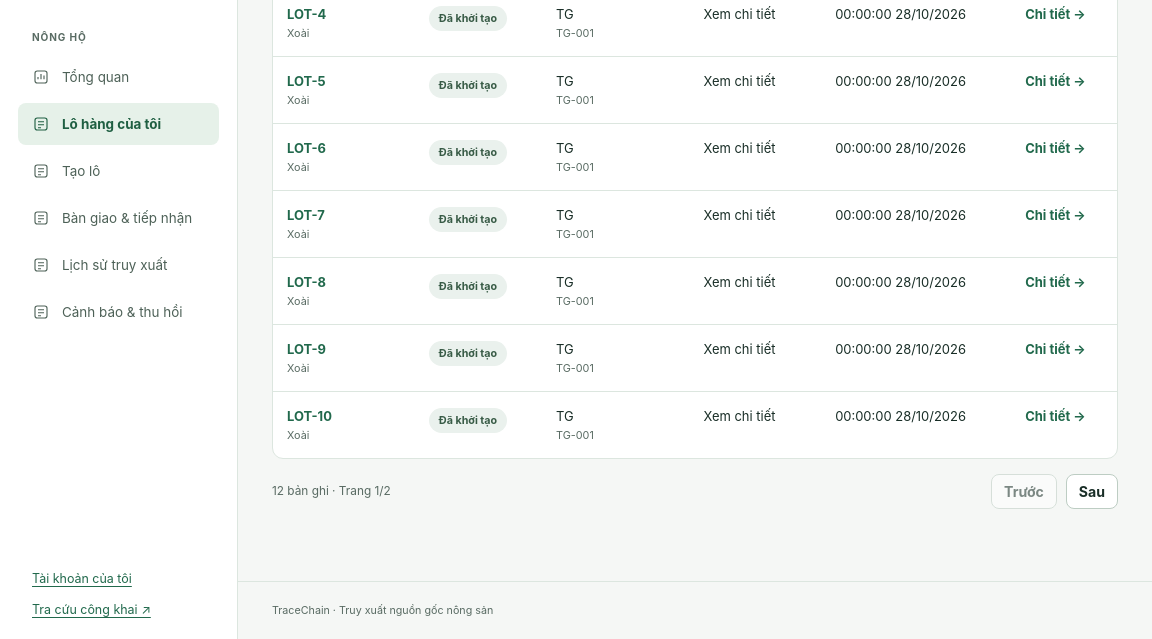
Test case: searches and paginates API lots, then filters by status
(page scrolled)
expect the link "LOT-12" is not shown: met
Click the button "Sau": (1092, 491) [1066, 474, 1118, 508]
(page scrolled)
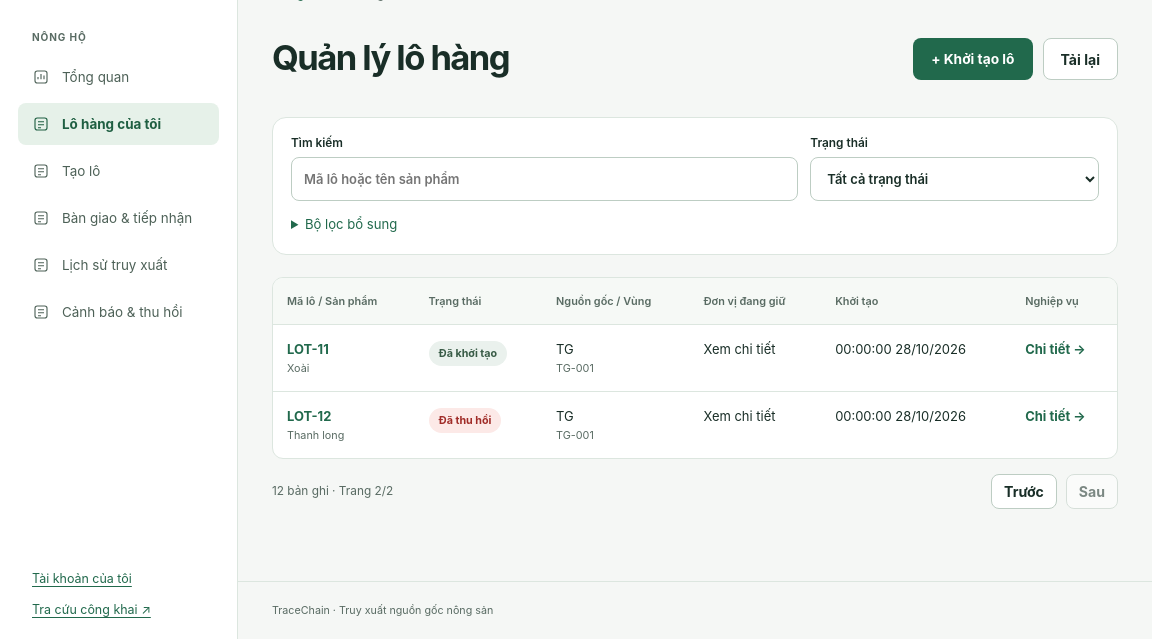
expect the link "LOT-12" is shown: met, box [287, 408, 331, 424]
In the search field labelled "Tìm kiếm": (545, 179) [291, 157, 798, 201], type "Thanh long"
(page scrolled)
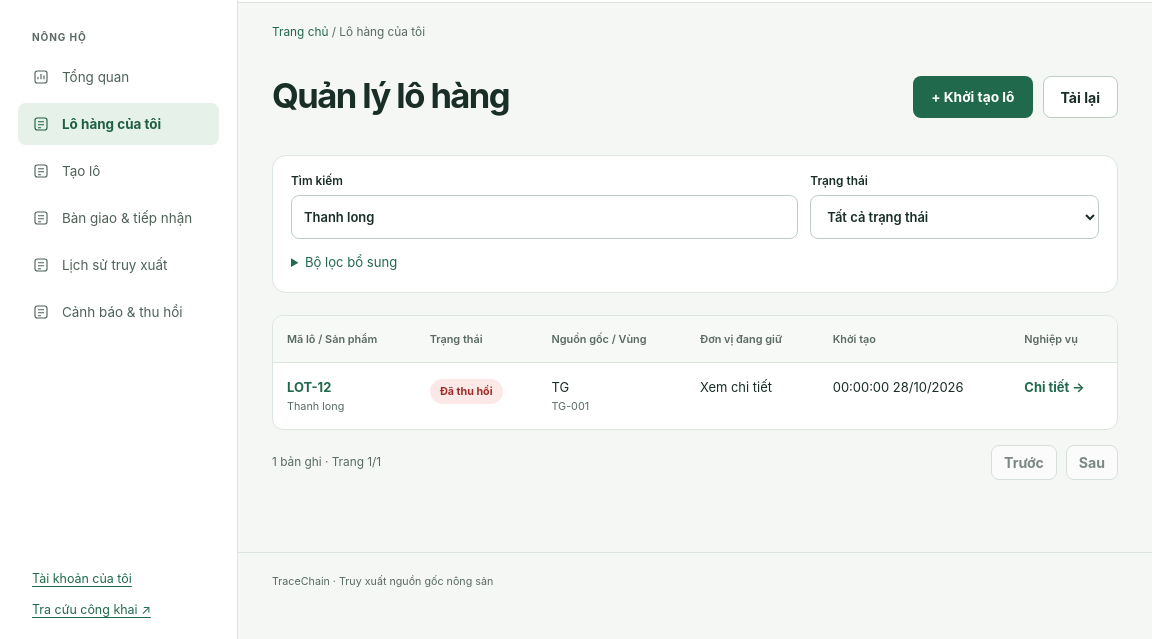
expect the link "LOT-12" is shown: met, box [287, 378, 331, 394]
expect the link "LOT-11" is gone: met
Select "Đã khởi tạo" in the dropdown labelled "Trạng thái": (955, 217) [810, 195, 1099, 239]
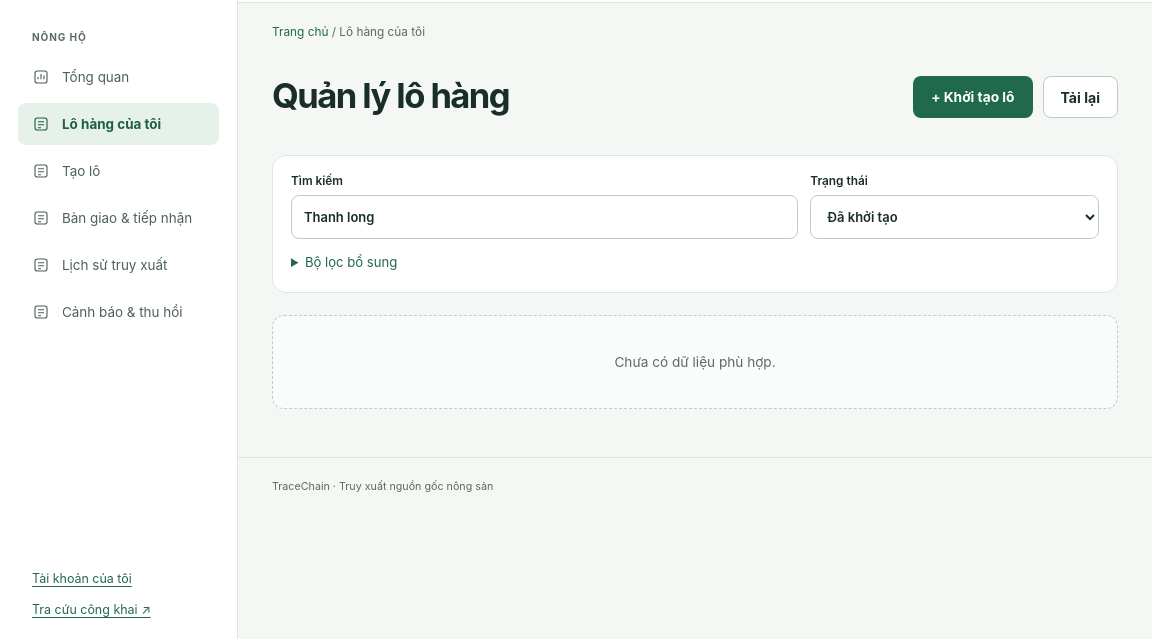
expect the text "Chưa có dữ liệu phù hợp." is shown: met, box [272, 314, 1118, 408]
